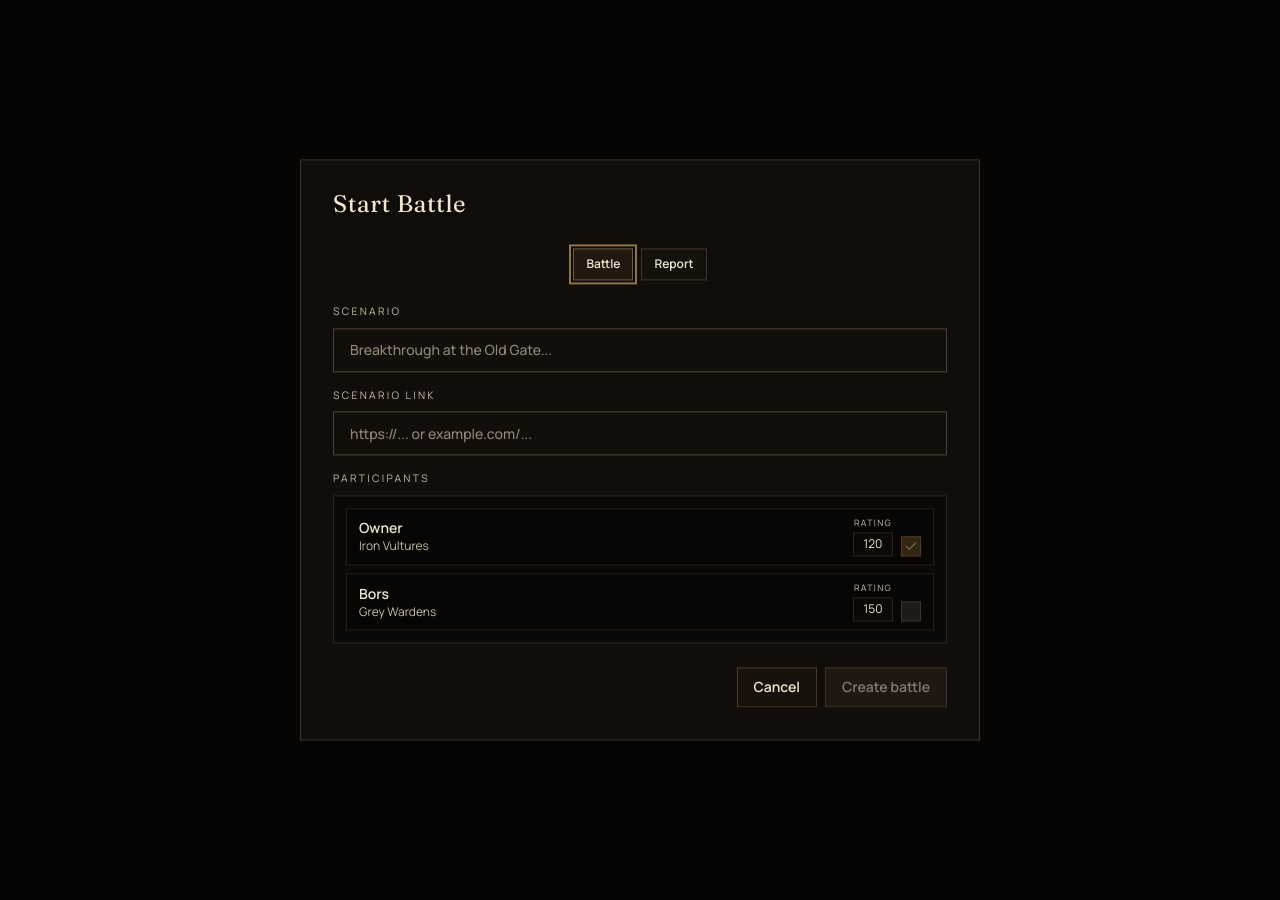
Test: StartBattleDialog › shows a reported result's warnings as toasts, as a created battle's (decision 3)
Click the button "Report".
click(674, 264)  # box [642, 248, 707, 280]
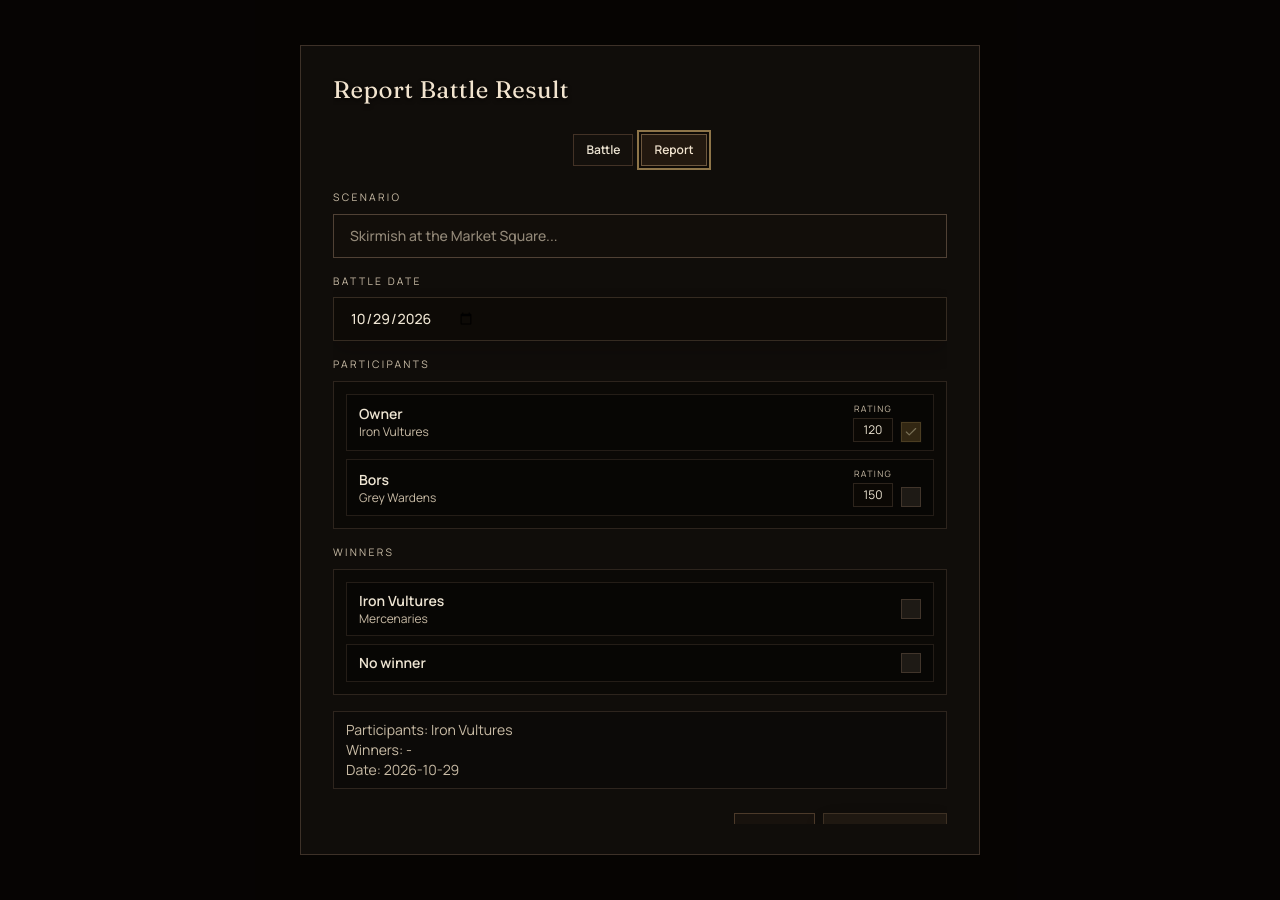
Click the checkbox next to "150".
click(911, 497)  # box [901, 487, 921, 507]
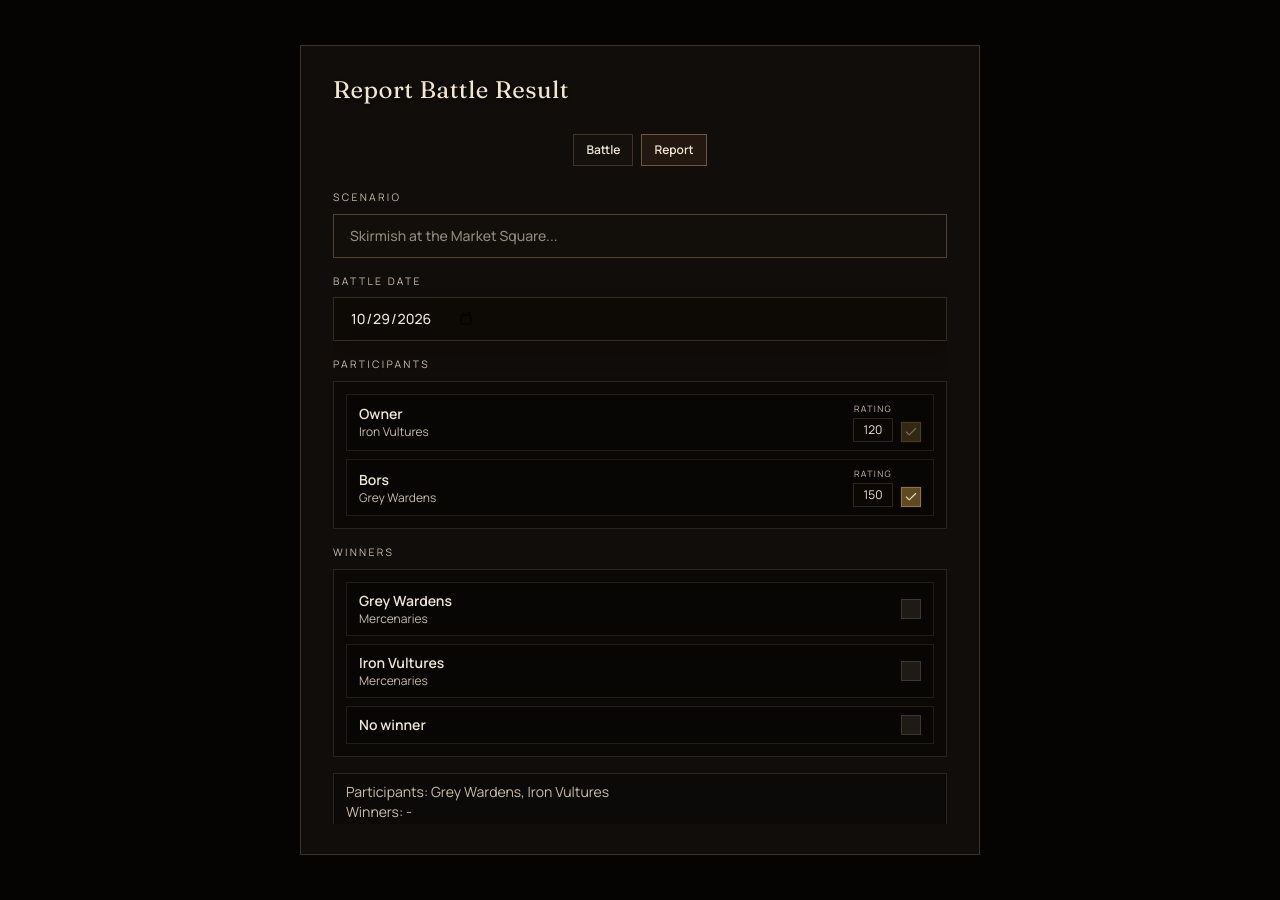
Type "Ambush" into the field with placeholder "Skirmish at the Market Square...".
click(640, 236); type("Ambush")  # box [333, 214, 947, 258]
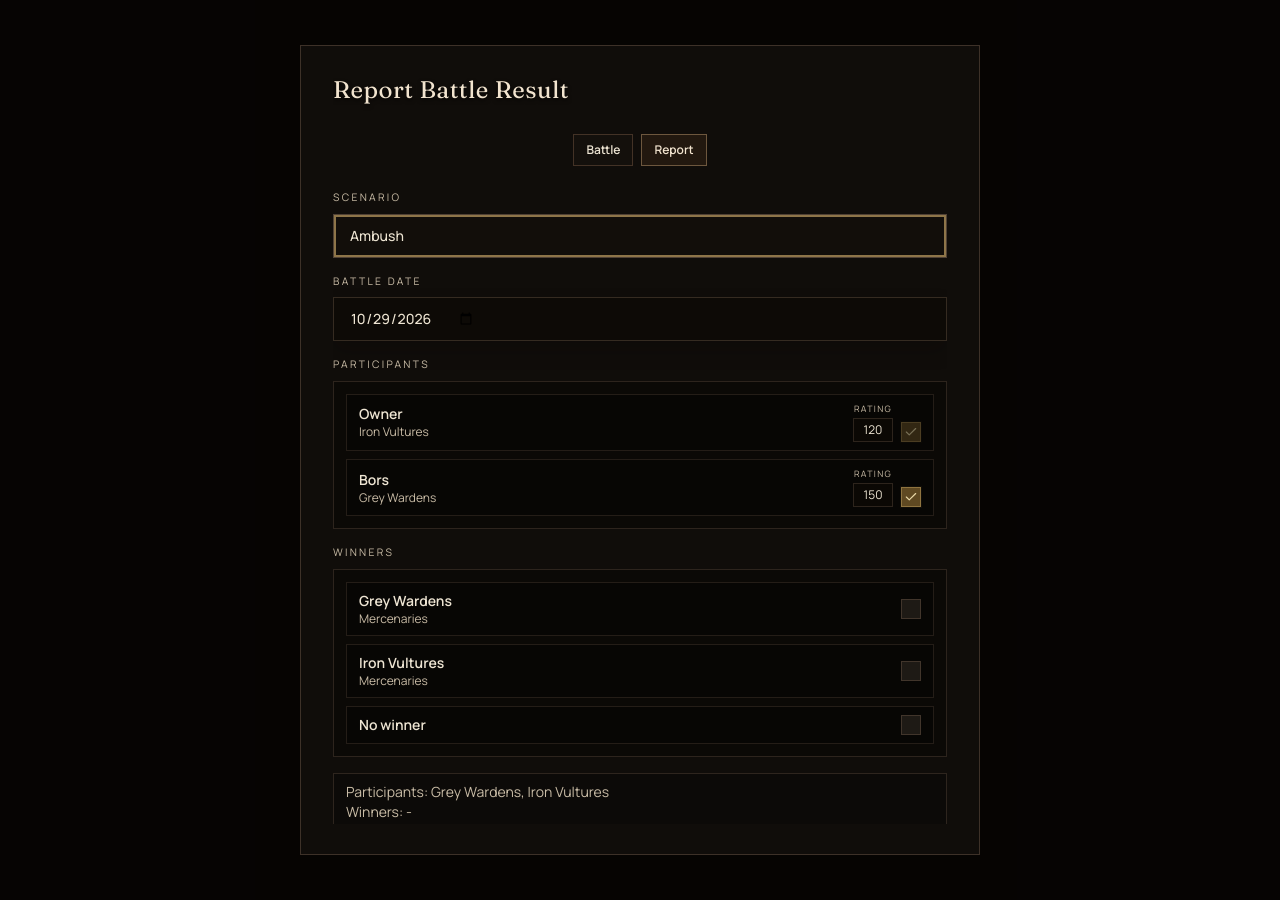
Click the 5th checkbox labelled "No winner".
click(392, 724)  # box [346, 706, 934, 744]
(page scrolled)
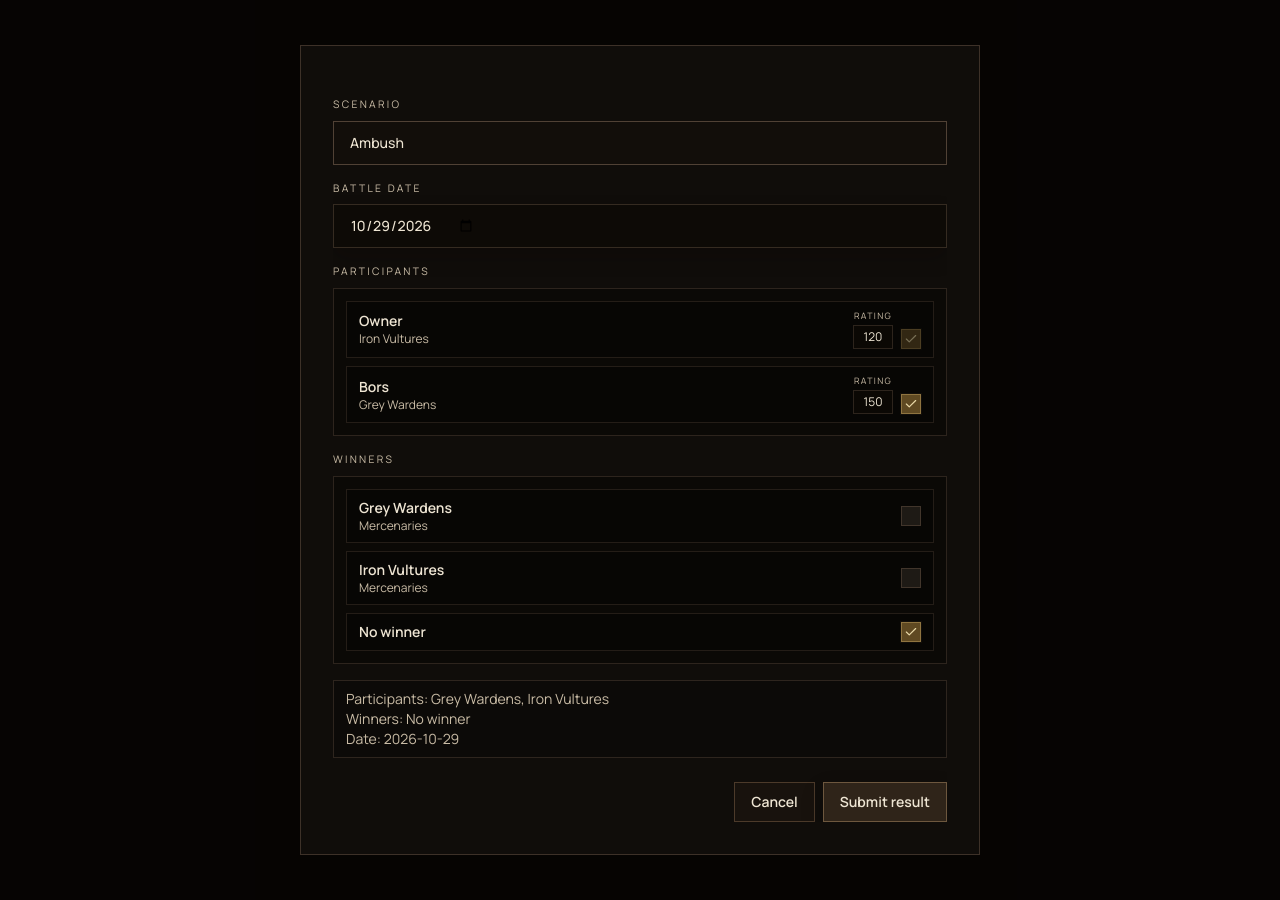
Click the button "Submit result".
click(885, 802)  # box [823, 782, 947, 822]
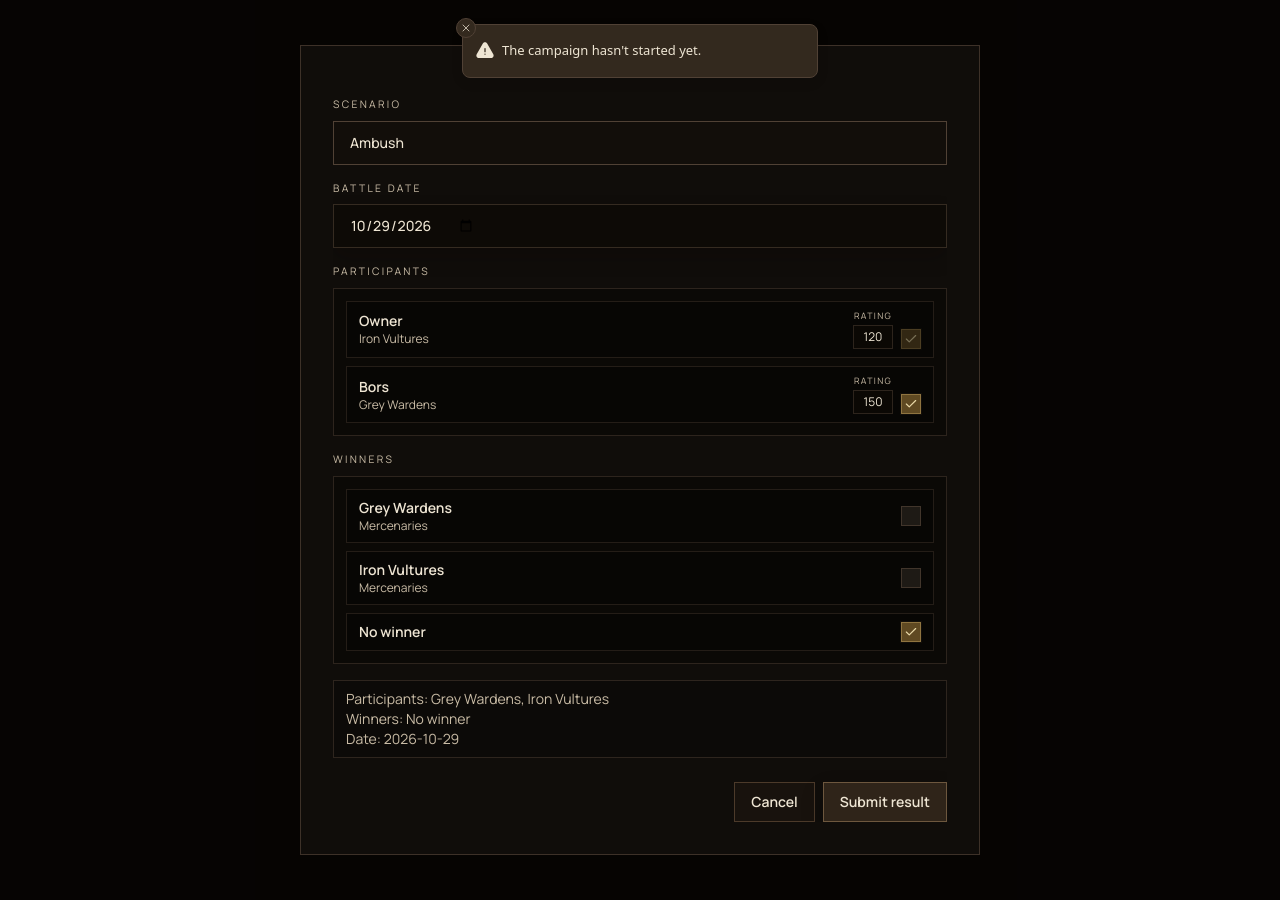
Expected: the text "The campaign hasn't started yet." is shown, [502, 41, 701, 60]
